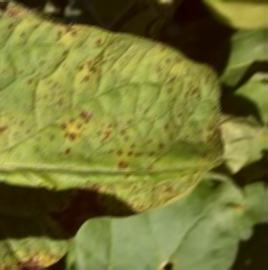Tomato Early blight leaf: (0, 0, 234, 270)
